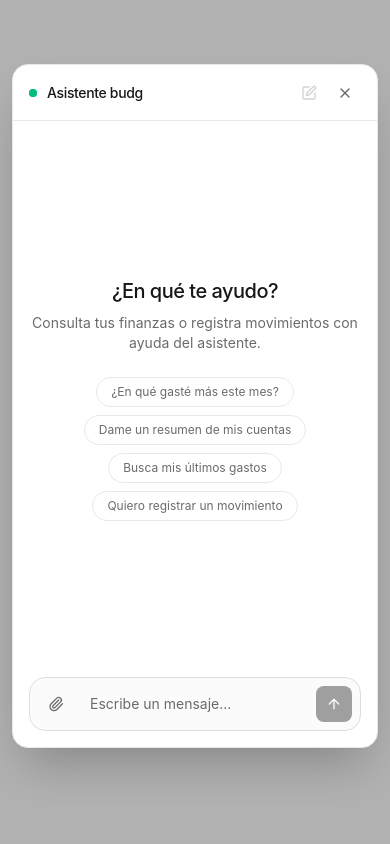
Test: FabChat › closes from the mobile header control
Click the button named "Cerrar asistente budg". click: (345, 92)
box: [329,76,361,108]
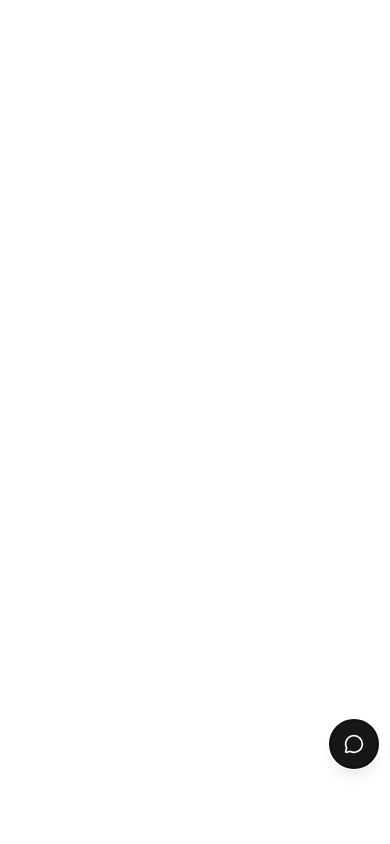
expect the dialog is gone: met
